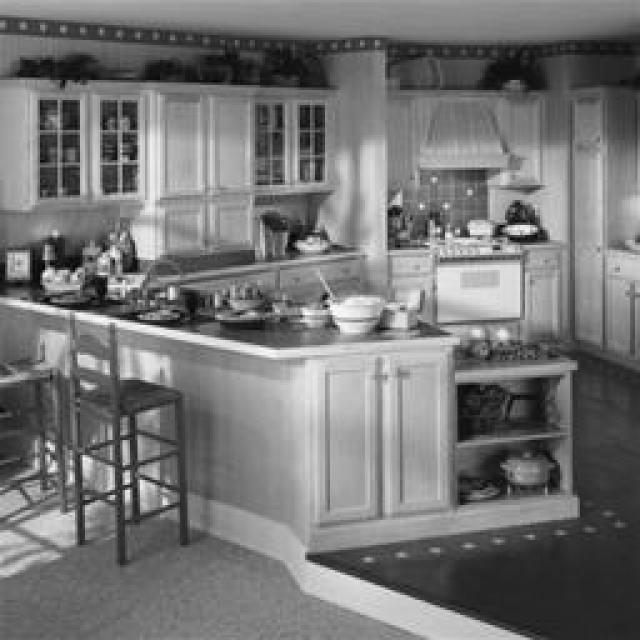chair: (66, 314, 190, 562)
